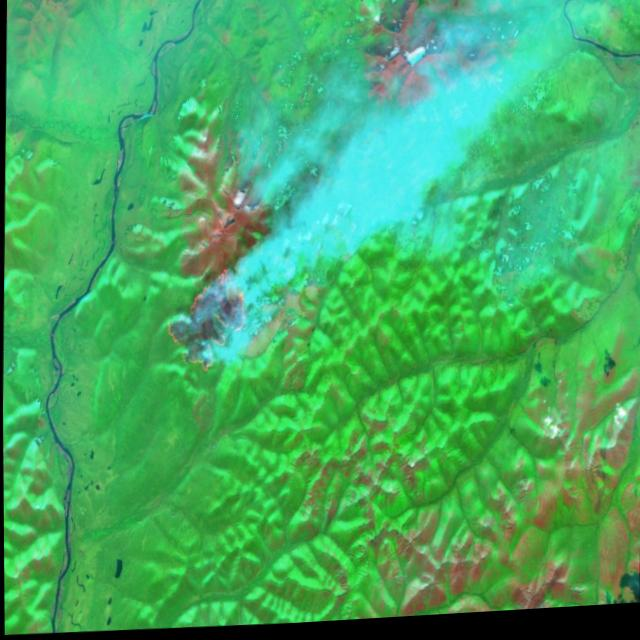fire: (159, 262, 247, 384)
